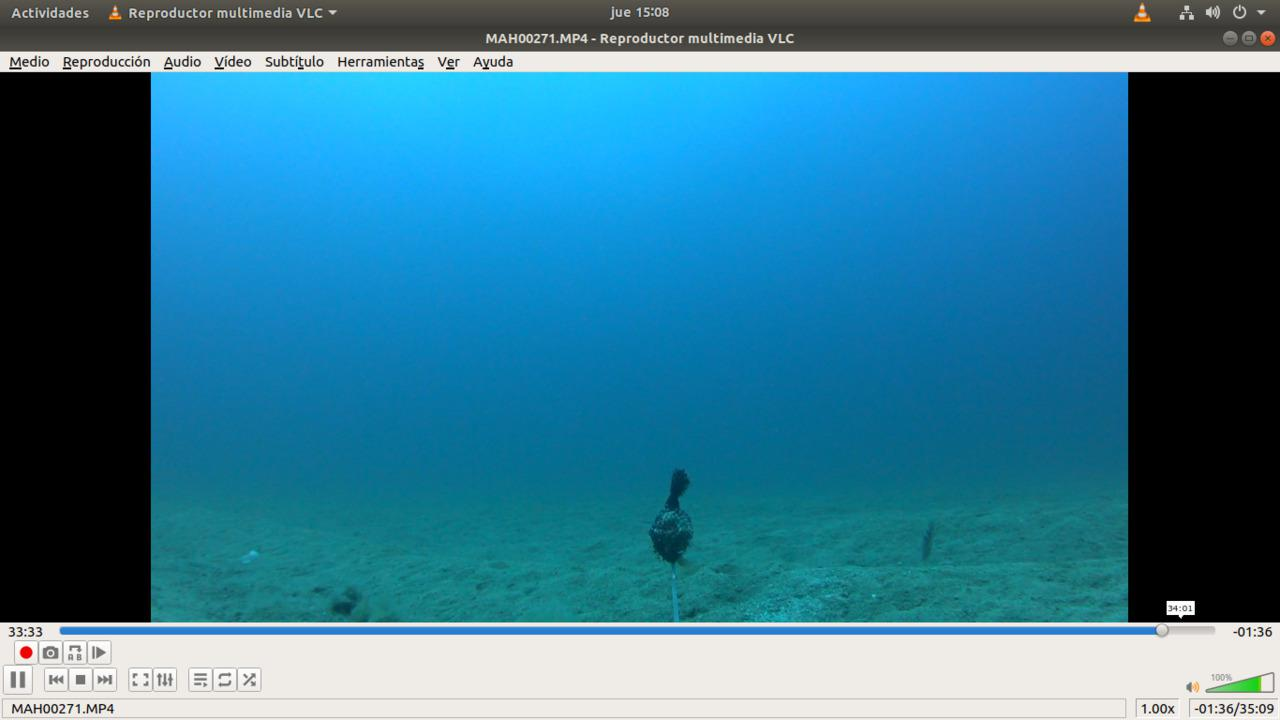raor: (907, 513, 940, 565)
